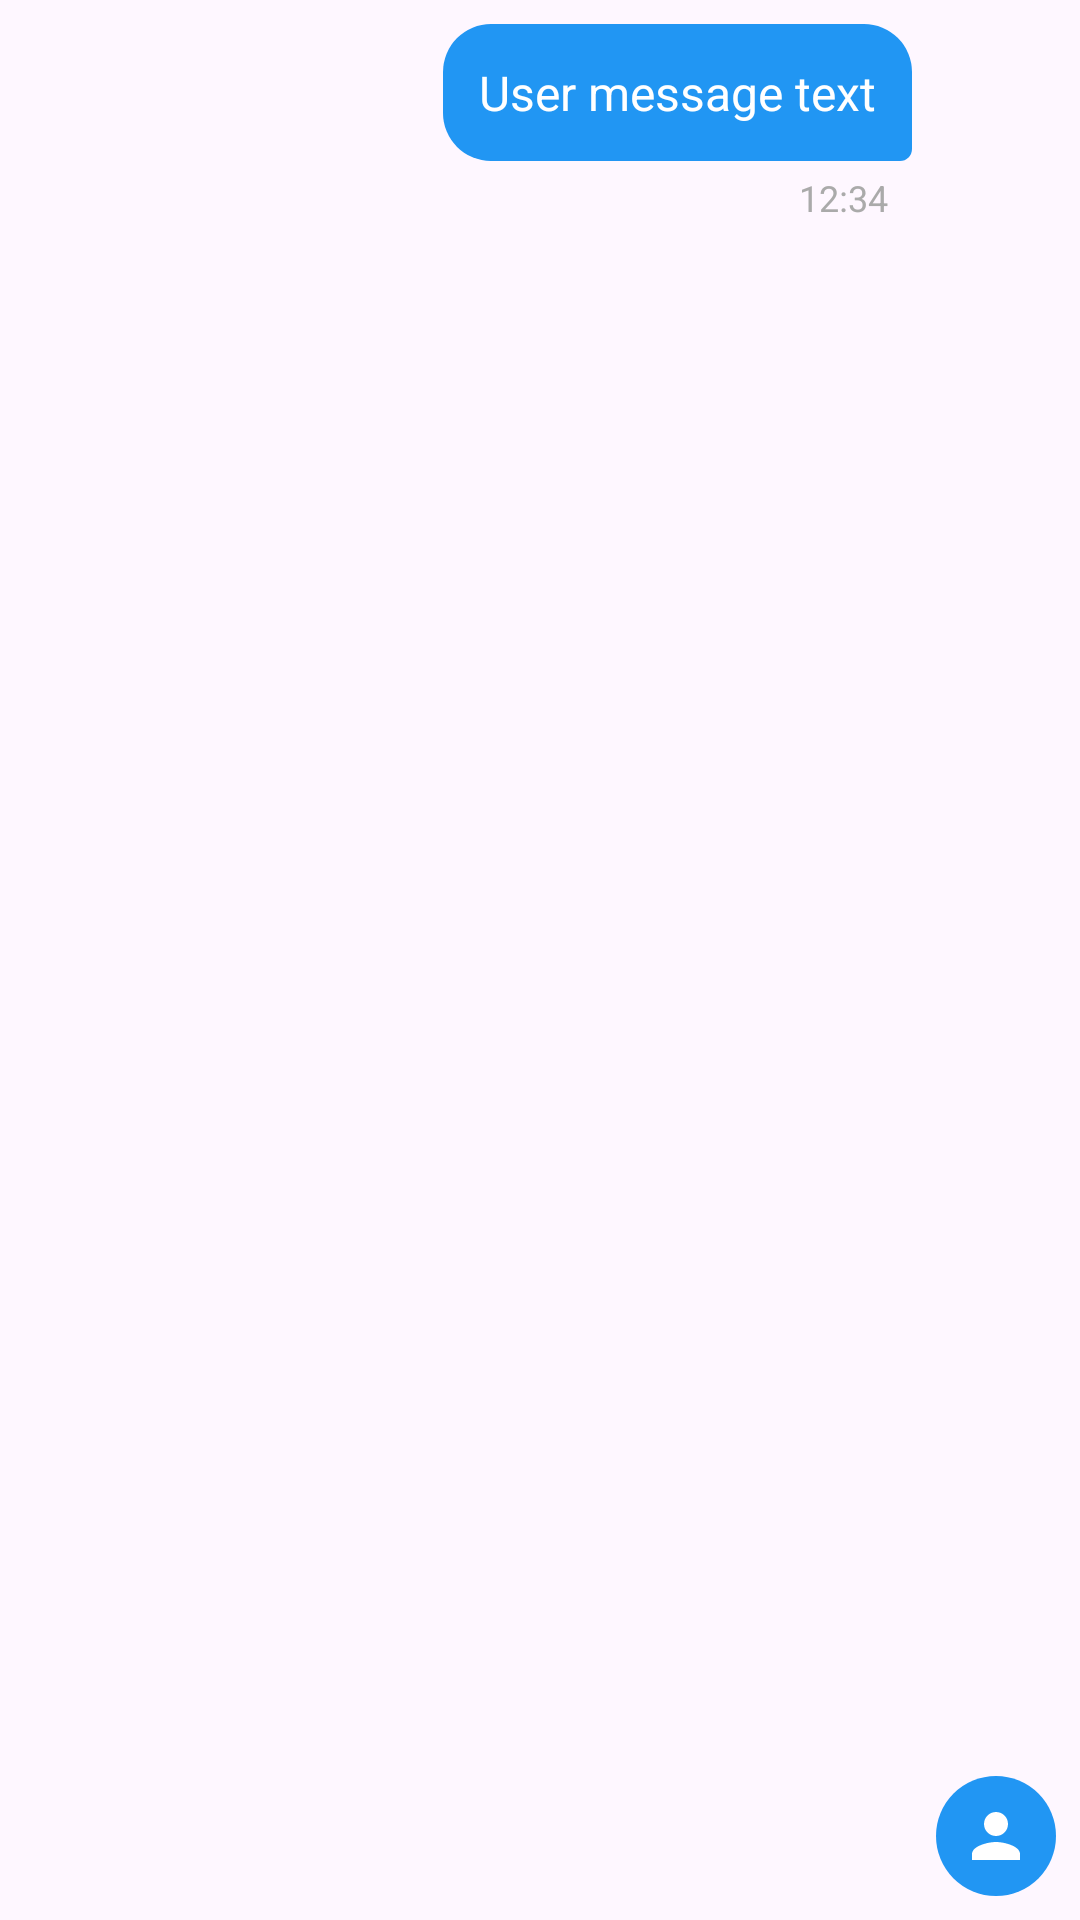

Icon bounding boxes for this 1080 x 1920 phone screenshot, format region(x1, y1, x2, y2):
person: region(936, 1776, 1056, 1896)
